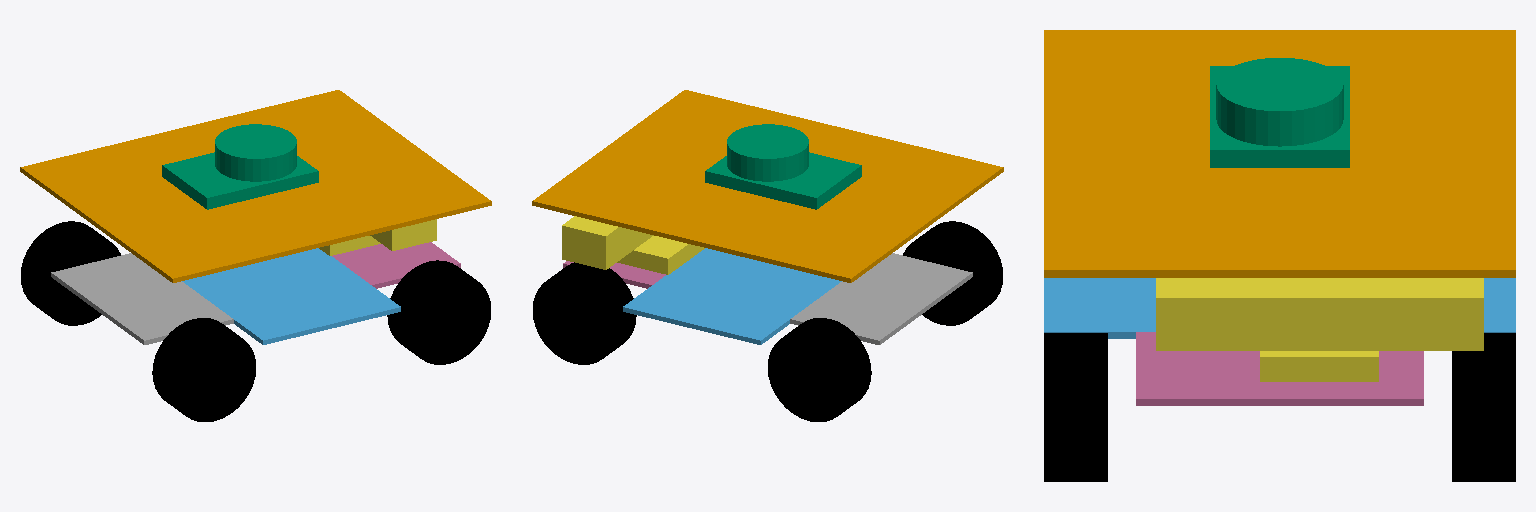
The robot description file, URDF, robot "LGDXRobot2":
<?xml version="1.0"?>
<robot name="LGDXRobot2" xmlns:xacro="http://ros.org/wiki/xacro">
  <link name="base_link">
  </link>
  <link name="base_footprint"/>
  <joint name="base_joint" type="fixed">
    <parent link="base_link"/>
    <child link="base_footprint"/>
    <origin xyz="0.0 0.0 0.0" rpy="0 0 0"/>
  </joint>
  <joint name="wheel4" type="fixed">
    <parent link="base_link"/>
    <child link="WHEEL_4_SOLID"/>
    <axis xyz="0 -0.000004 -1"/>
    <limit effort="10" velocity="10"/>
    <origin xyz="-0.1055 -0.1025 0.0375" rpy="1.5708 0 0"/>
  </joint>
  <link name="WHEEL_4_SOLID">
    <visual>
      <origin xyz="0 0 0" rpy="0 0 0"/>
      <geometry>
        <cylinder radius="0.0375" length="0.032"/>
      </geometry>
      <material name="LGDXBlack">
        <color rgba="0 0 0 1.0"/>
      </material>
    </visual>
    <collision>
      <origin xyz="0 0 0" rpy="0 0 0"/>
      <geometry>
        <cylinder radius="0.0375" length="0.032"/>
      </geometry>
    </collision>
  </link>
  <joint name="wheel3" type="fixed">
    <parent link="base_link"/>
    <child link="WHEEL_3_SOLID"/>
    <axis xyz="0 -0.000004 -1"/>
    <limit effort="10" velocity="10"/>
    <origin xyz="-0.1055 0.1025 0.0375" rpy="1.5708 0 0"/>
  </joint>
  <link name="WHEEL_3_SOLID">
    <visual>
      <origin xyz="0 0 0" rpy="0 0 0"/>
      <geometry>
        <cylinder radius="0.0375" length="0.032"/>
      </geometry>
      <material name="LGDXBlack">
        <color rgba="0 0 0 1.0"/>
      </material>
    </visual>
    <collision>
      <origin xyz="0 0 0" rpy="0 0 0"/>
      <geometry>
        <cylinder radius="0.0375" length="0.032"/>
      </geometry>
    </collision>
  </link>
  <joint name="wheel2" type="fixed">
    <parent link="base_link"/>
    <child link="WHEEL_2_SOLID"/>
    <axis xyz="0 -0.000004 -1"/>
    <limit effort="10" velocity="10"/>
    <origin xyz="0.1055 -0.1025 0.0375" rpy="1.5708 0 0"/>
  </joint>
  <link name="WHEEL_2_SOLID">
    <visual>
      <origin xyz="0 0 0" rpy="0 0 0"/>
      <geometry>
        <cylinder radius="0.0375" length="0.032"/>
      </geometry>
      <material name="LGDXBlack">
        <color rgba="0 0 0 1.0"/>
      </material>
    </visual>
    <collision>
      <origin xyz="0 0 0" rpy="0 0 0"/>
      <geometry>
        <cylinder radius="0.0375" length="0.032"/>
      </geometry>
    </collision>
  </link>
  <joint name="wheel1" type="fixed">
    <parent link="base_link"/>
    <child link="WHEEL_1_SOLID"/>
    <axis xyz="0 -0.000004 -1"/>
    <limit effort="10" velocity="10"/>
    <origin xyz="0.1055 0.1025 0.0375" rpy="1.5708 0 0"/>
  </joint>
  <link name="WHEEL_1_SOLID">
    <visual>
      <origin xyz="0 0 0" rpy="0 0 0"/>
      <geometry>
        <cylinder radius="0.0375" length="0.032"/>
      </geometry>
      <material name="LGDXBlack">
        <color rgba="0 0 0 1.0"/>
      </material>
    </visual>
    <collision>
      <origin xyz="0 0 0" rpy="0 0 0"/>
      <geometry>
        <cylinder radius="0.0375" length="0.032"/>
      </geometry>
    </collision>
  </link>
  <link name="BASE_FRONT_SOLID">
    <visual>
      <origin xyz="0 0 0" rpy="0 0 0"/>
      <geometry>
        <box size="0.08 0.145 0.004"/>
      </geometry>
    </visual>
    <collision>
      <origin xyz="0 0 0" rpy="0 0 0"/>
      <geometry>
        <box size="0.08 0.145 0.004"/>
      </geometry>
    </collision>
  </link>
  <joint name="base_link_BASE_FRONT_SOLID_joint" type="fixed">
    <parent link="base_link"/>
    <child link="BASE_FRONT_SOLID"/>
    <origin xyz="0.102 0 0.057" rpy="0 0 0"/>
  </joint>
  <link name="BASE_REAR_SOLID">
    <visual>
      <geometry>
        <box size="0.08 0.145 0.004"/>
      </geometry>
    </visual>
    <collision>
      <geometry>
        <box size="0.08 0.145 0.004"/>
      </geometry>
    </collision>
  </link>
  <joint name="base_link_BASE_REAR_SOLID_joint" type="fixed">
    <parent link="base_link"/>
    <child link="BASE_REAR_SOLID"/>
    <origin xyz="-0.102 0 0.057" rpy="0 0 0"/>
  </joint>
  <link name="BASE_TOP_SOLID">
    <visual>
      <geometry>
        <box size="0.286 0.237 0.004"/>
      </geometry>
    </visual>
    <collision>
      <geometry>
        <box size="0.286 0.237 0.004"/>
      </geometry>
    </collision>
  </link>
  <joint name="base_link_BASE_TOP_SOLID_joint" type="fixed">
    <parent link="base_link"/>
    <child link="BASE_TOP_SOLID"/>
    <origin xyz="0 0 0.129" rpy="0 0 0"/>
  </joint>
  <link name="BASE_CENTRE_SOLID">
    <visual>
      <geometry>
        <box size="0.124 0.237 0.004"/>
      </geometry>
    </visual>
    <collision>
      <geometry>
        <box size="0.124 0.237 0.004"/>
      </geometry>
    </collision>
  </link>
  <joint name="base_link_BASE_CENTRE_SOLID_joint" type="fixed">
    <parent link="base_link"/>
    <child link="BASE_CENTRE_SOLID"/>
    <origin xyz="0 0 0.057" rpy="0 0 0"/>
  </joint>
  <link name="lidar">
    <visual>
      <origin xyz="0.014 0 -0.014" rpy="1.5708 0.00001 -1.5708"/>
      <geometry>
        <box size="0.07 0.01 0.1"/>
      </geometry>
    </visual>
    <collision>
      <origin xyz="0.014 0 -0.014" rpy="1.5708 0.00001 -1.5708"/>
      <geometry>
        <box size="0.07 0.01 0.1"/>
      </geometry>
    </collision>
    <visual>
      <origin xyz="0 0 0" rpy="0 0 0"/>
      <geometry>
        <cylinder radius="0.032" length="0.021"/>
      </geometry>
    </visual>
    <collision>
      <origin xyz="0 0 0" rpy="0 0 0"/>
      <geometry>
        <cylinder radius="0.032" length="0.021"/>
      </geometry>
    </collision>
  </link>
  <joint name="base_link_lidar_joint" type="fixed">
    <parent link="base_link"/>
    <child link="lidar"/>
    <origin xyz="0 0 0.157" rpy="0 0 3.14159"/>
  </joint>
  <link name="camera">
    <visual>
      <origin xyz="0.006 0.01 0.034" rpy="0 0 0"/>
      <geometry>
        <box size="0.04 0.165 0.029"/>
      </geometry>
    </visual>
    <collision>
      <origin xyz="0.006 0.01 0.034" rpy="0 0 0"/>
      <geometry>
        <box size="0.04 0.165 0.029"/>
      </geometry>
    </collision>
    <visual>
      <origin xyz="-0.009 0.01 0.007" rpy="0 0 0"/>
      <geometry>
        <box size="0.061 0.06 0.014"/>
      </geometry>
    </visual>
    <collision>
      <origin xyz="-0.009 0.01 0.007" rpy="0 0 0"/>
      <geometry>
        <box size="0.061 0.06 0.014"/>
      </geometry>
    </collision>
  </link>
  <joint name="base_link_camera_joint" type="fixed">
    <parent link="base_link"/>
    <child link="camera"/>
    <origin xyz="0.1 0.01 0.059" rpy="0 0 0"/>
  </joint>
  <link name="camera depth">
  </link>
  <joint name="camera_camera depth_joint" type="fixed">
    <parent link="camera"/>
    <child link="camera depth"/>
    <origin xyz="0.027 0.037 0.034" rpy="0 0 0"/>
  </joint>
  <link name="camera rgb">
  </link>
  <joint name="camera_camera rgb_joint" type="fixed">
    <parent link="camera"/>
    <child link="camera rgb"/>
    <origin xyz="0.027 0.011 0.034" rpy="-1.570796 0 -1.570796"/>
  </joint>
</robot>

--- Facts derived from the render (not from the file) ---
Views: 3 orthographic renders of the robot side by side, from view 1: azimuth 30°, elevation 25°; view 2: azimuth 150°, elevation 25°; view 3: azimuth 270°, elevation 25°.
Model LGDXRobot2 with 14 links and 13 joints (13 fixed), rooted at base_link, posed all joints at 0.
Visible links, largest first — view 1: BASE_TOP_SOLID, BASE_CENTRE_SOLID, lidar, WHEEL_4_SOLID, WHEEL_2_SOLID, BASE_REAR_SOLID, WHEEL_3_SOLID, BASE_FRONT_SOLID, camera; view 2: BASE_TOP_SOLID, BASE_CENTRE_SOLID, lidar, WHEEL_3_SOLID, BASE_REAR_SOLID, WHEEL_1_SOLID, WHEEL_4_SOLID, camera, BASE_FRONT_SOLID; view 3: BASE_TOP_SOLID, camera, lidar, BASE_FRONT_SOLID, WHEEL_2_SOLID, WHEEL_1_SOLID, BASE_CENTRE_SOLID.
Link boxes in pixels (box(x1,y1,x2,y2)): BASE_TOP_SOLID: box(20, 90, 491, 282); BASE_CENTRE_SOLID: box(182, 248, 400, 344); lidar: box(162, 124, 318, 209); WHEEL_4_SOLID: box(152, 318, 255, 421); WHEEL_2_SOLID: box(387, 260, 490, 364); BASE_REAR_SOLID: box(51, 253, 233, 344); WHEEL_3_SOLID: box(21, 221, 120, 325); BASE_FRONT_SOLID: box(332, 242, 460, 288); camera: box(319, 219, 436, 255); BASE_TOP_SOLID: box(532, 90, 1003, 282); BASE_CENTRE_SOLID: box(623, 248, 841, 344); lidar: box(705, 124, 861, 209); WHEEL_3_SOLID: box(768, 318, 871, 421); BASE_REAR_SOLID: box(790, 253, 972, 344); WHEEL_1_SOLID: box(533, 262, 636, 364); WHEEL_4_SOLID: box(903, 221, 1002, 325); camera: box(562, 216, 704, 274); BASE_FRONT_SOLID: box(563, 261, 665, 288); BASE_TOP_SOLID: box(1044, 30, 1515, 277); camera: box(1156, 278, 1483, 381); lidar: box(1210, 58, 1349, 167); BASE_FRONT_SOLID: box(1136, 332, 1423, 405); WHEEL_2_SOLID: box(1044, 333, 1107, 481); WHEEL_1_SOLID: box(1452, 333, 1515, 481); BASE_CENTRE_SOLID: box(1044, 278, 1515, 338).
Bounding box of the posed robot: 0.286 × 0.237 × 0.1675 m (x, y, z).
Geometry: primitives only (box / cylinder / sphere), no mesh files.